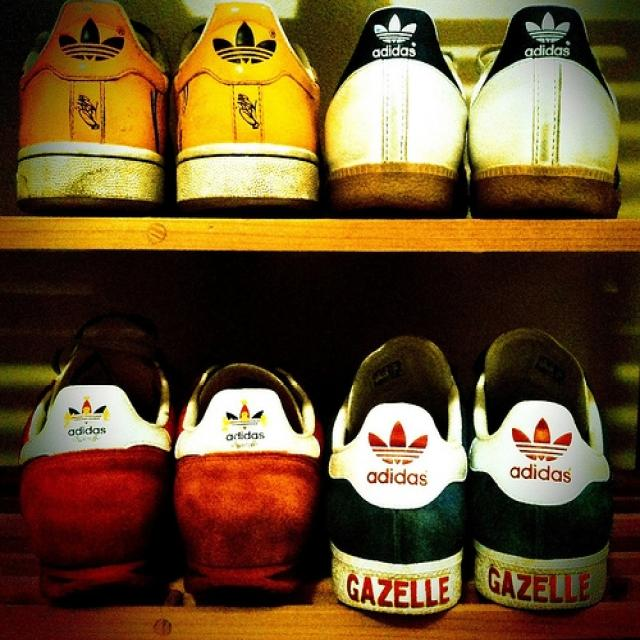adidas: (504, 417, 583, 494), (361, 421, 438, 492), (519, 7, 585, 66), (210, 20, 281, 73), (58, 19, 132, 67), (371, 13, 430, 63), (222, 402, 279, 453), (63, 399, 117, 444)
